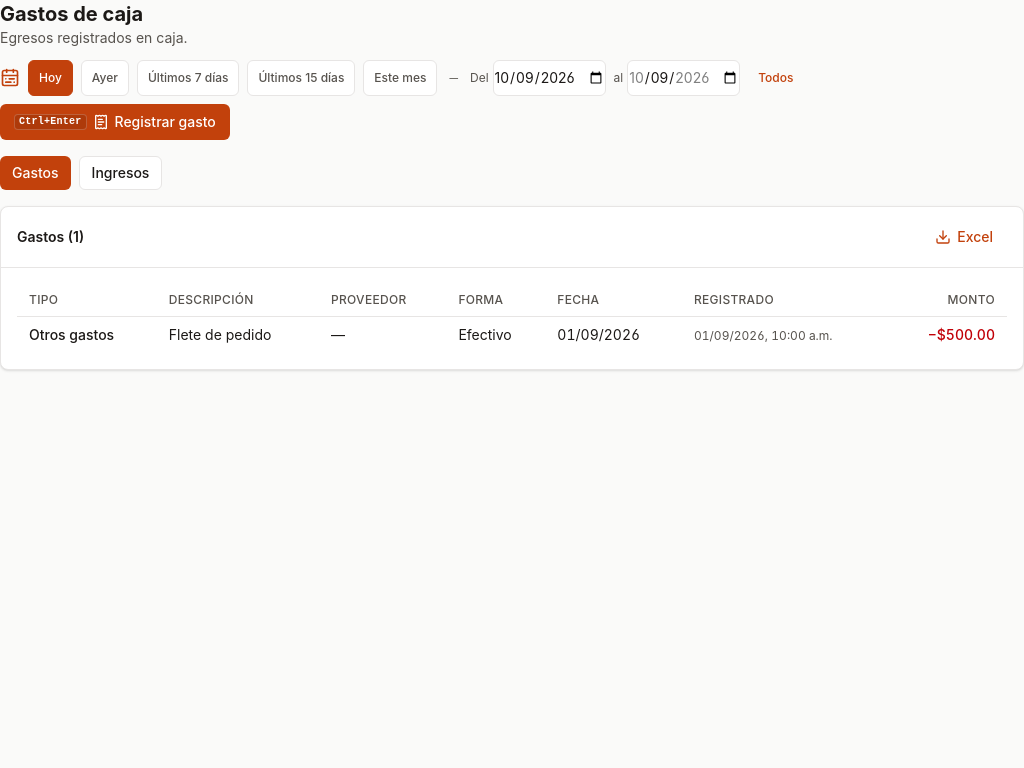
Scenario: GastosPage (profundización) › valida concepto y monto del ingreso
Expected: the text "Flete de pedido" is shown, x1=169 y1=326 x2=272 y2=343
Click the button "Ingresos": (120, 173) x1=79 y1=156 x2=162 y2=190
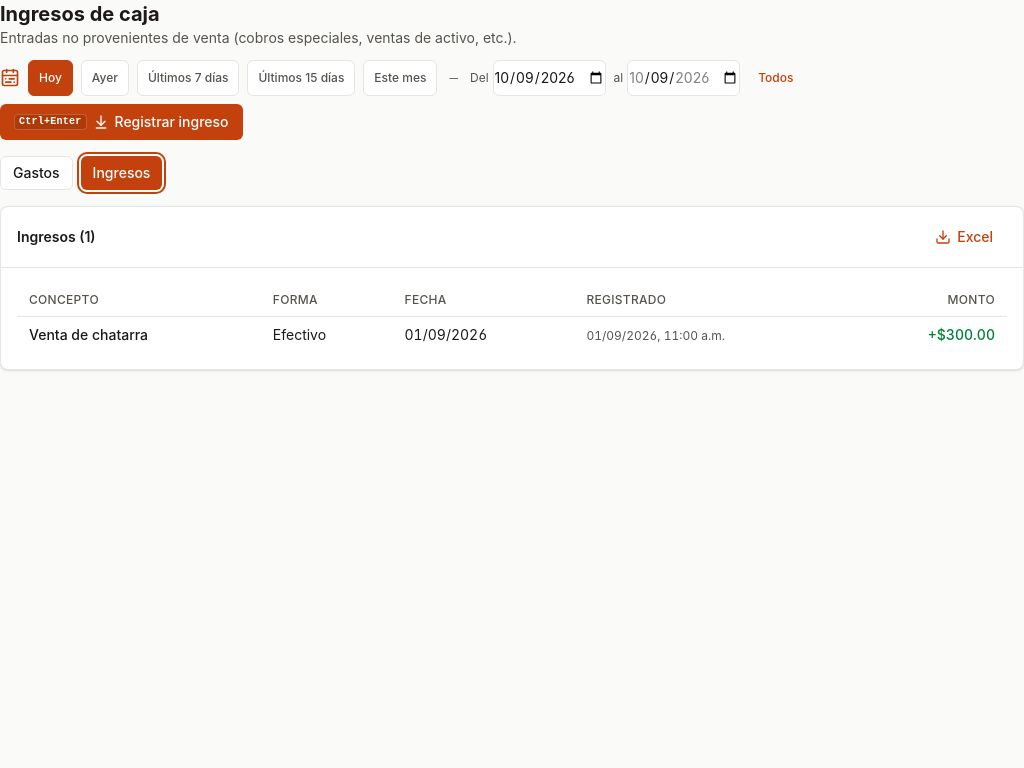
Expected: the text "Venta de chatarra" is shown, x1=29 y1=326 x2=148 y2=343
Click the button "Ctrl+Enter Registrar ingreso": (121, 122) x1=0 y1=104 x2=243 y2=140
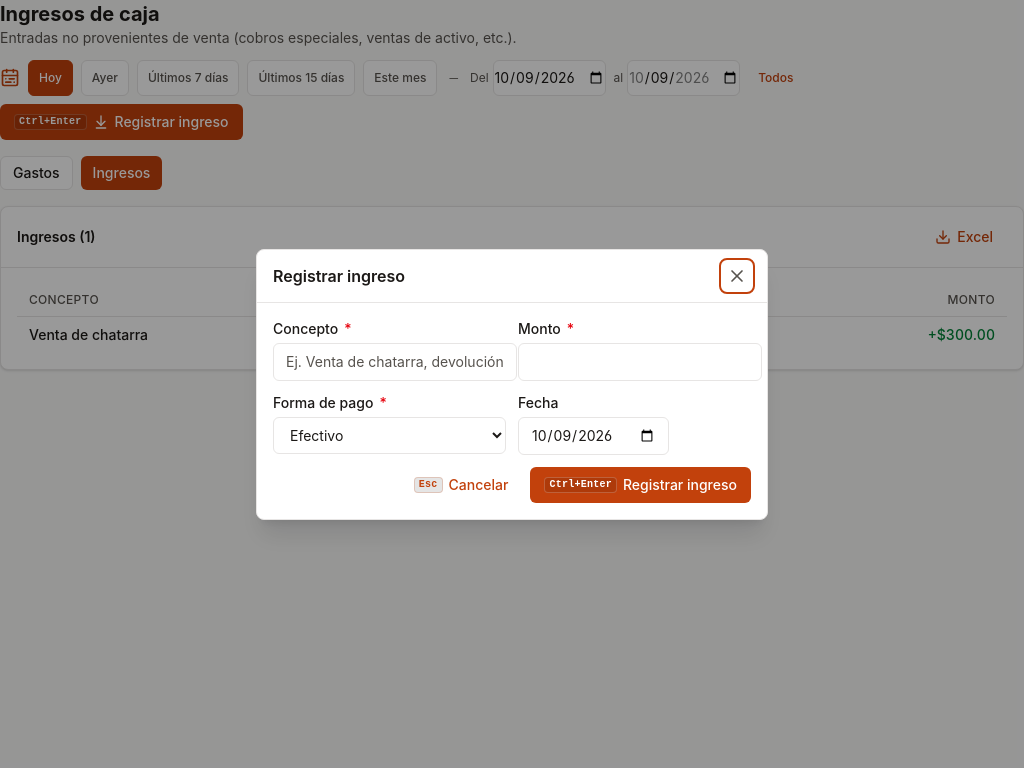
Click the button "Ctrl+Enter Registrar ingreso": (641, 484) x1=530 y1=466 x2=751 y2=502
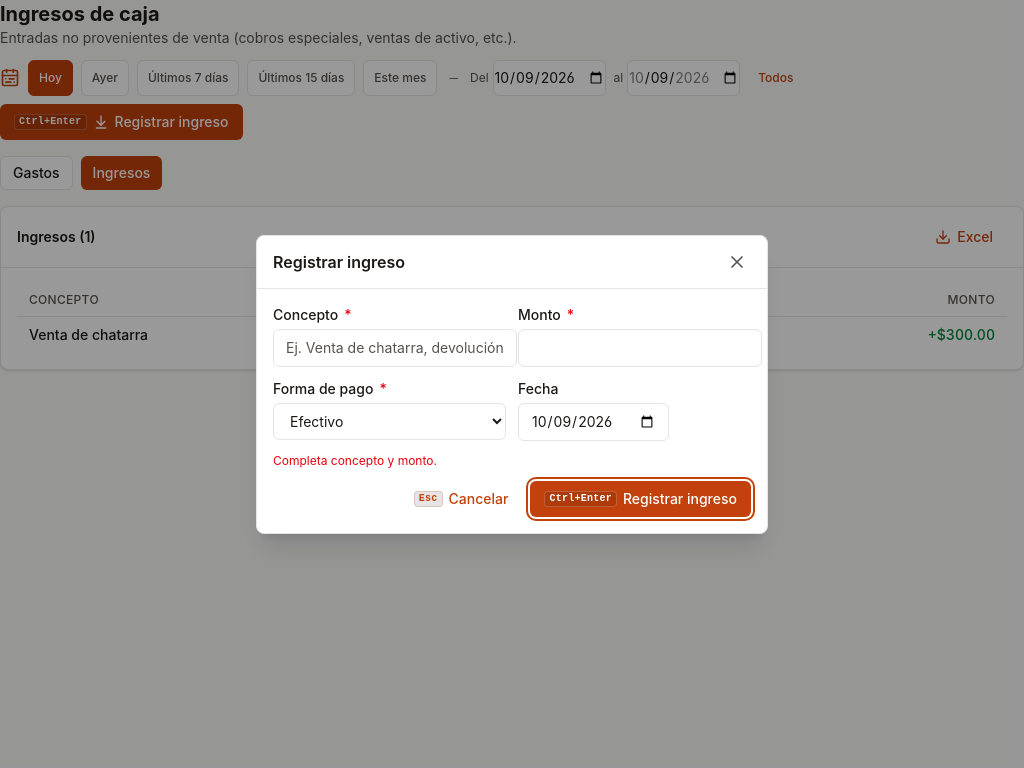
Expected: the text "Completa concepto y monto." is shown, x1=273 y1=452 x2=437 y2=468
